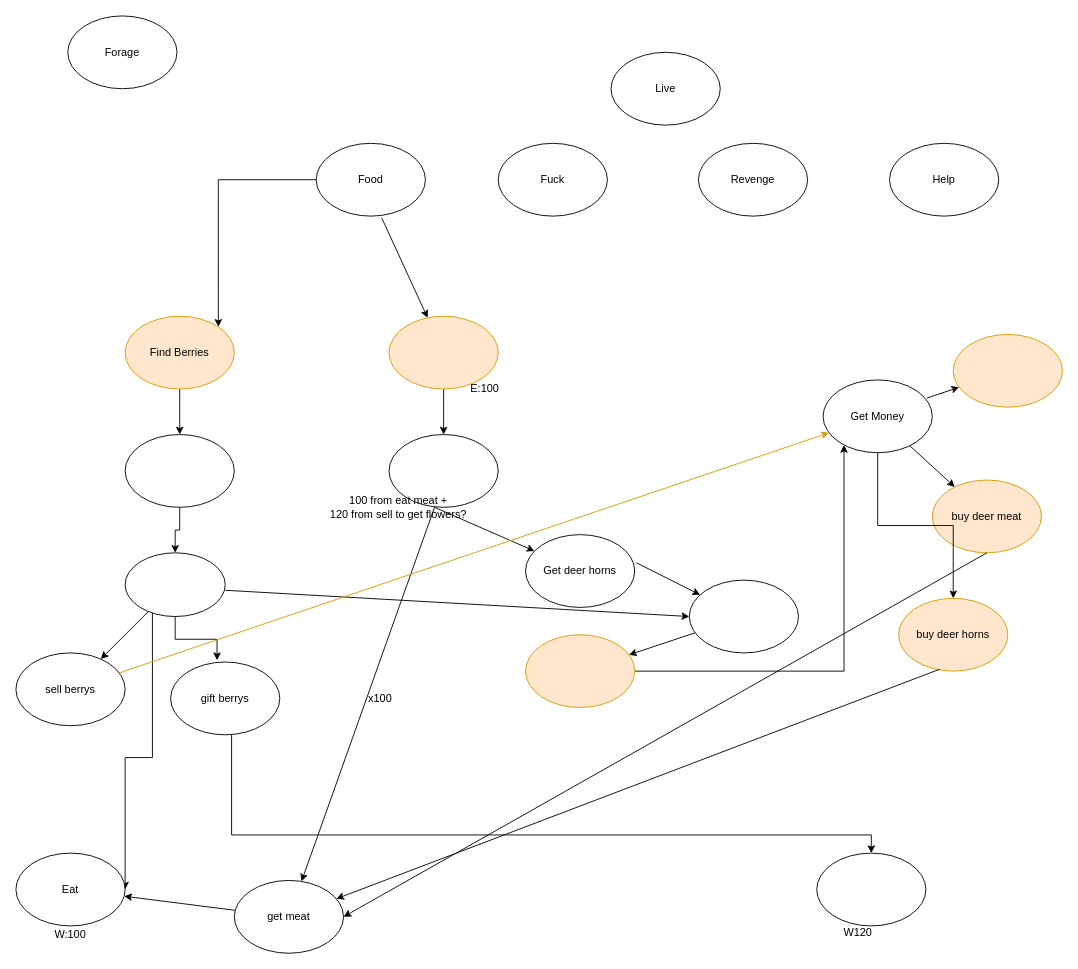
Image size: 1078x969. Some labels were removed from this diagram. Each missing label, with the box of its shape:
buy flower: (952, 334, 1062, 407)
Craft Bandage: (688, 579, 799, 653)
feed child: (816, 852, 926, 926)
Goto Berrys: (124, 434, 234, 507)
Hunt deer: (388, 315, 498, 389)
Loot berries: (124, 552, 225, 617)
Loot dead Deer: (388, 434, 498, 507)
sell bandage: (525, 634, 635, 708)
